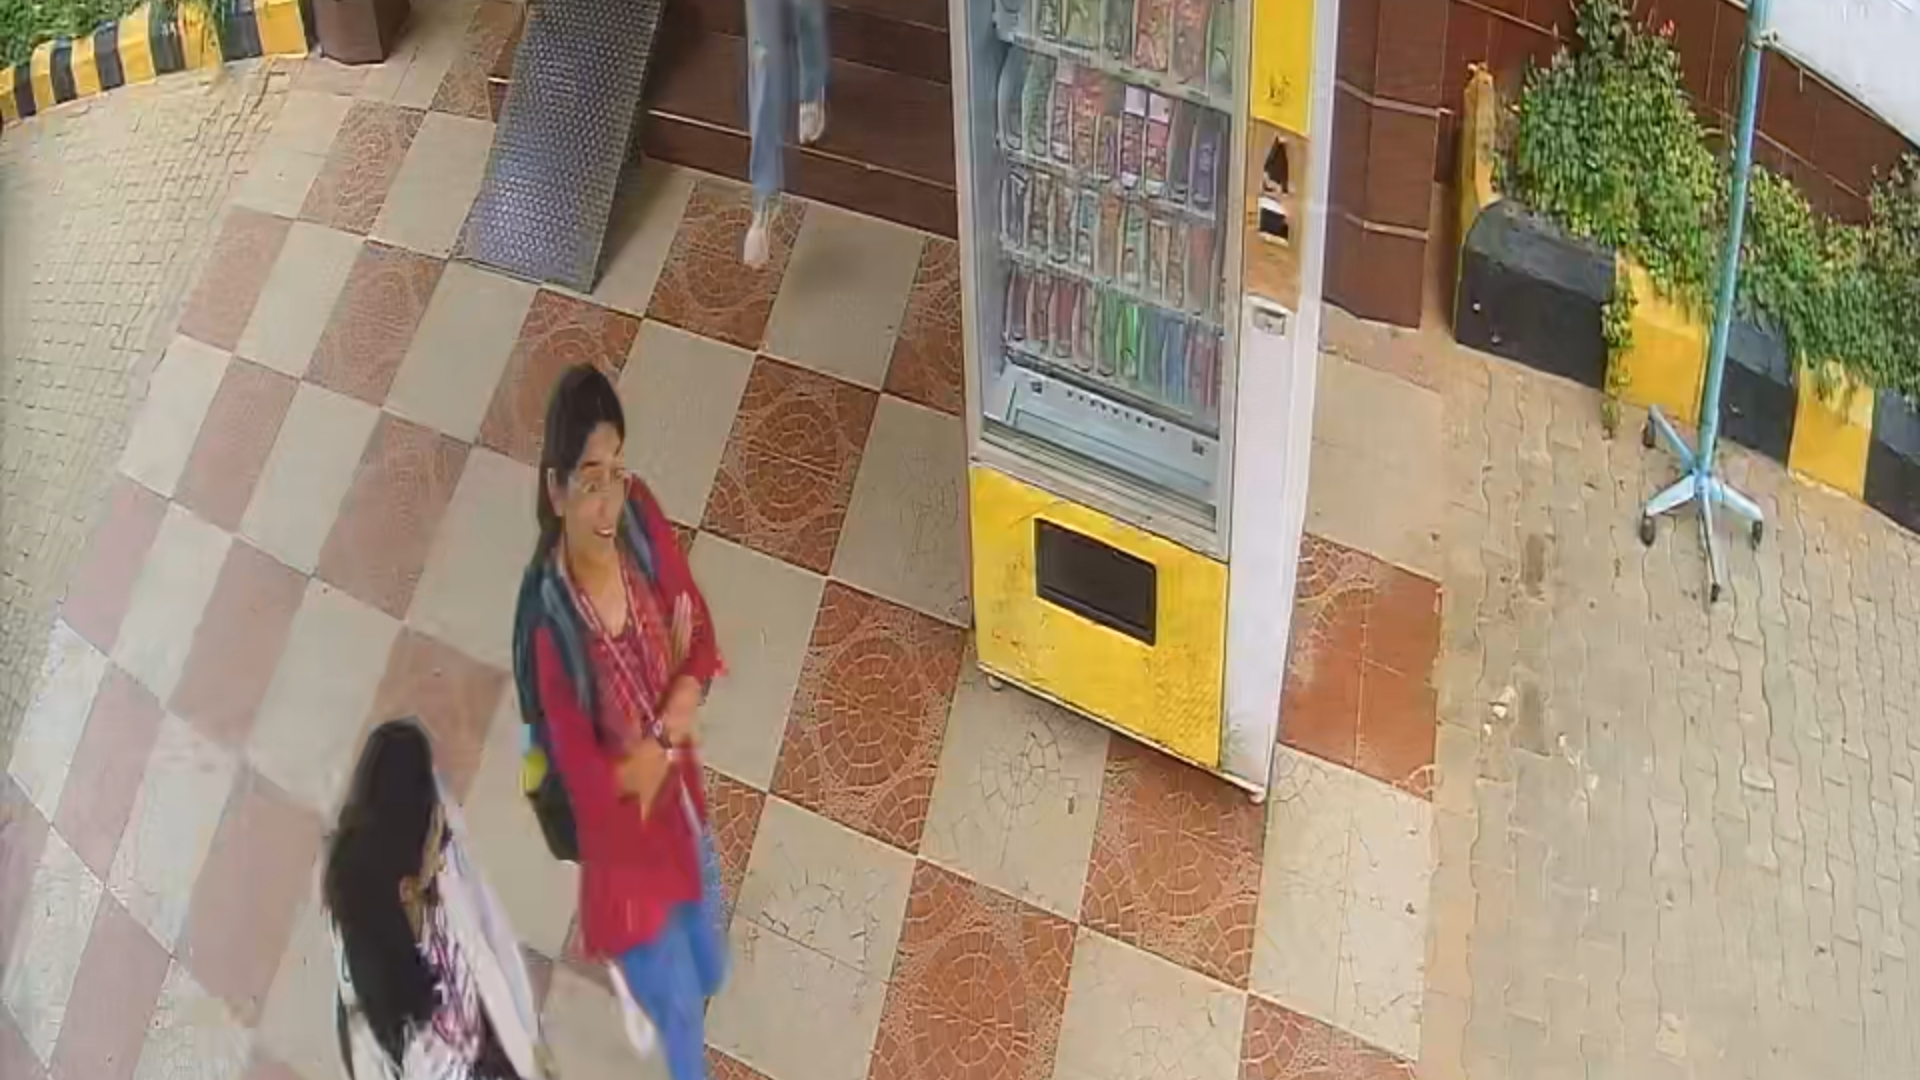not intruder: (501, 369, 766, 1065)
